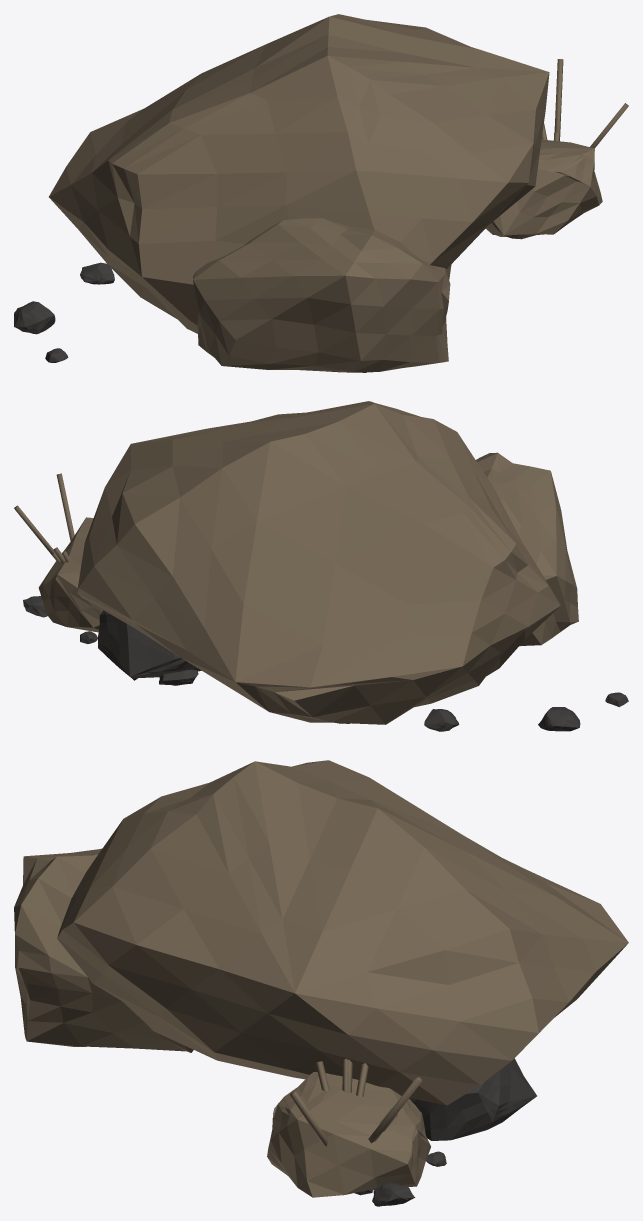
The model's file is cover_rock_14.glb.
The picture shows the model from 3 angles, top to bottom: view 1: azimuth 30°, elevation 25°; view 2: azimuth 150°, elevation 25°; view 3: azimuth 270°, elevation 25°; orthographic projection. The views are drawn at different scales.
Visible parts, largest first — view 1: rock_0, rock_3, rock_1, grit_6, grit_1, weed_3; view 2: rock_0, rock_3, rock_1, rock_2, grit_6, grit_1, grit_4; view 3: rock_0, rock_3, rock_1, rock_2, grit_8, weed_3.
Boxes of the visible parts, box(x1,y1,x2,y2) form: rock_0: box(49, 14, 549, 333); rock_3: box(193, 218, 451, 372); rock_1: box(485, 139, 602, 239); grit_6: box(14, 301, 55, 334); grit_1: box(80, 262, 114, 284); weed_3: box(554, 59, 563, 141); rock_0: box(77, 401, 560, 724); rock_3: box(476, 452, 578, 646); rock_1: box(38, 517, 103, 632); rock_2: box(98, 610, 201, 680); grit_6: box(538, 707, 580, 731); grit_1: box(424, 709, 459, 731); grit_4: box(159, 669, 198, 685); rock_0: box(57, 760, 628, 1105); rock_3: box(14, 848, 193, 1052); rock_1: box(267, 1072, 430, 1197); rock_2: box(409, 1058, 536, 1140); grit_8: box(372, 1182, 415, 1206); weed_3: box(368, 1076, 422, 1143).
Size of the model in its own units: 2.45 by 1.02 by 1.94.
